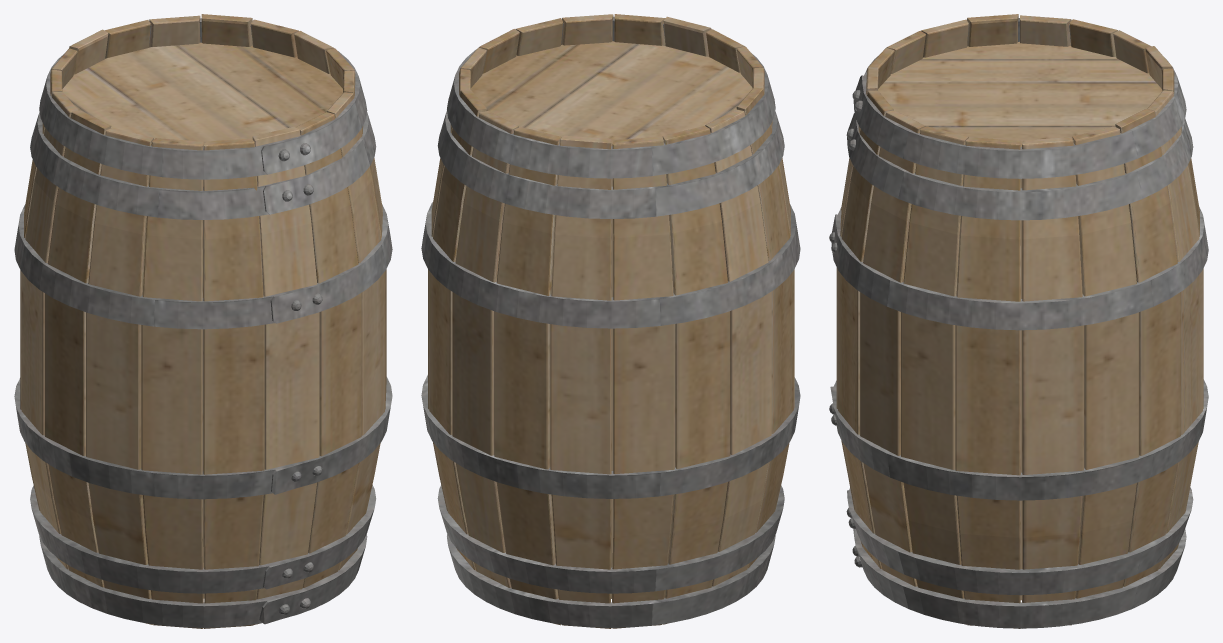
Rendered from barrel.obj.
The picture shows the model from 3 angles, left to right: view 1: azimuth 30°, elevation 25°; view 2: azimuth 150°, elevation 25°; view 3: azimuth 270°, elevation 25°; orthographic projection.
Visible parts, largest first — view 1: obj0_1; view 2: obj0_1; view 3: obj0_1.
Part boxes in pixels (x1,y1,x2,y2): obj0_1: (14,14,392,628); obj0_1: (421,14,800,628); obj0_1: (829,14,1208,628).
Bounding box in the file's own units: 0.92 × 1.3 × 0.9195.
